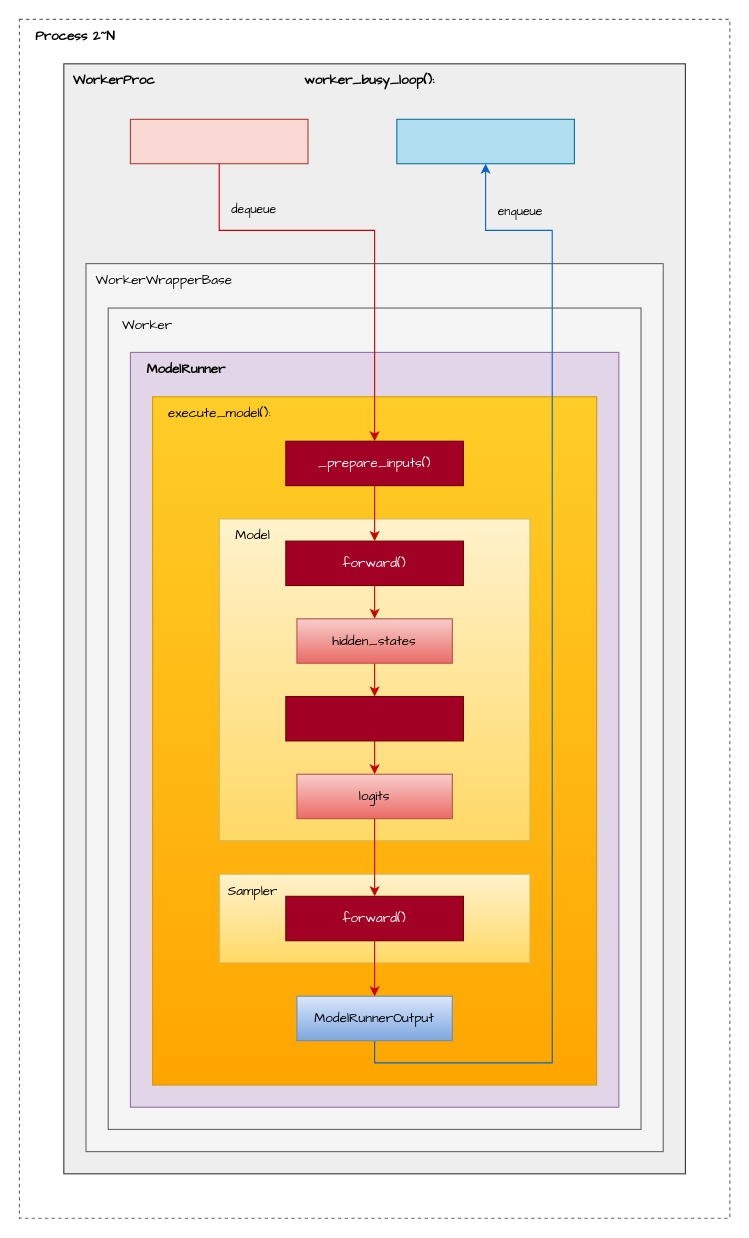
Some shapes in this 749 by 1238 pixel diagram are drawn without their labels. The shapes that lost their labels are listed below. From the top down, each one's box as (x1, y1, x2, y2) in pixels, then its label:
(129, 118, 308, 164): rpc_broadcast_mq
(396, 118, 574, 164): worker_response_mq
(285, 695, 463, 741): compute_logits()
